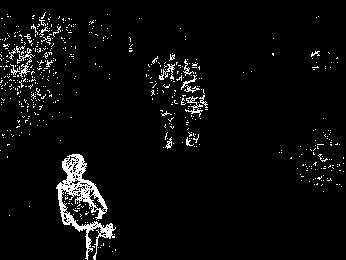person: (56, 157, 115, 257), (156, 76, 182, 147), (188, 76, 210, 150)
